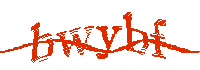b: (28, 19, 56, 63), (124, 13, 148, 59)
f: (149, 16, 169, 60)
w: (58, 23, 93, 58)
y: (94, 23, 122, 62)
